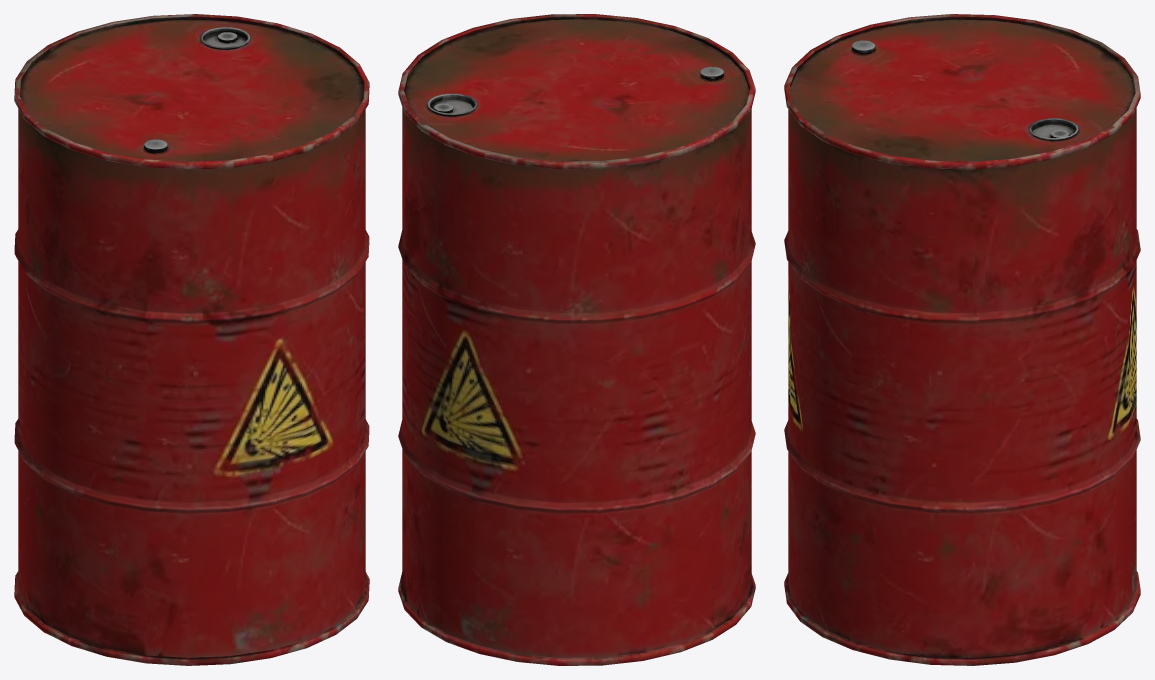
The model's file is Barrel_01.glb.
The picture shows the model from 3 angles, left to right: view 1: azimuth 30°, elevation 25°; view 2: azimuth 150°, elevation 25°; view 3: azimuth 270°, elevation 25°; orthographic projection.
Parts seen in each view (by area): view 1: Barrel_01; view 2: Barrel_01; view 3: Barrel_01.
Boxes of the visible parts, x1,y1,x2,y2 form: Barrel_01: [14, 14, 369, 665]; Barrel_01: [398, 14, 755, 665]; Barrel_01: [784, 14, 1140, 665].
Size of the model in its own units: 0.5631 by 0.88 by 0.5631.
1 material, 1 textured.
